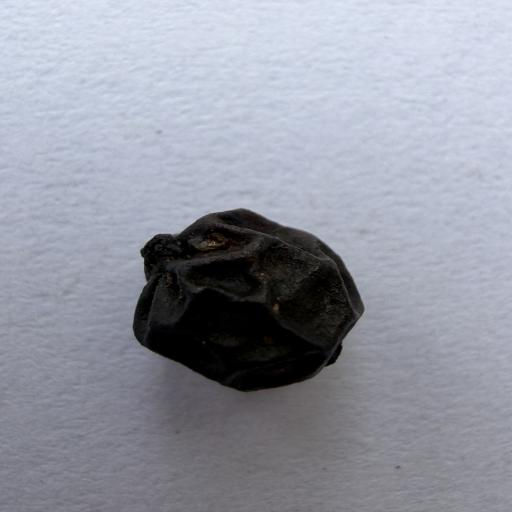Black_pepper: (110, 189, 375, 401)
